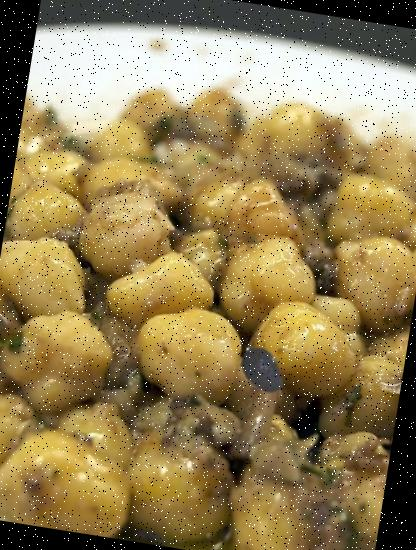Avocado: (232, 339, 294, 402)
